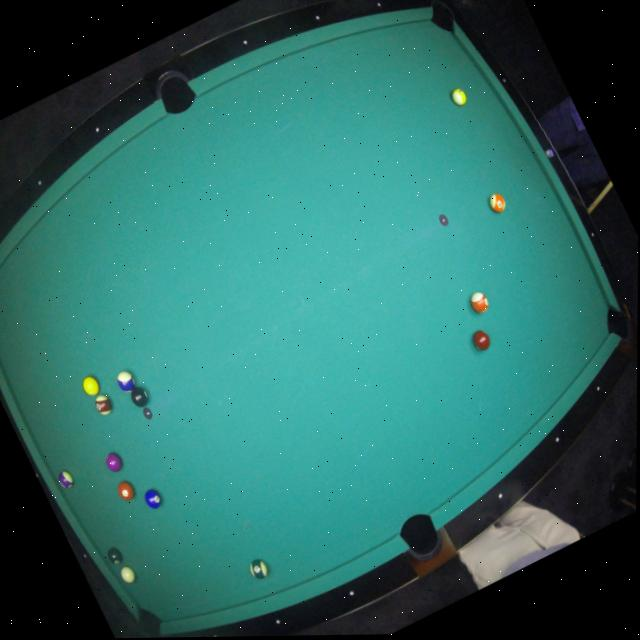cue ball: (116, 560, 138, 587)
other: (463, 322, 496, 357), (242, 551, 273, 585), (482, 186, 512, 217), (465, 286, 493, 319), (127, 382, 153, 412), (91, 390, 116, 420), (113, 368, 139, 396), (79, 371, 103, 399), (141, 485, 165, 513), (102, 449, 126, 475), (102, 545, 125, 571), (114, 477, 137, 503), (55, 466, 77, 492), (448, 84, 471, 108)
